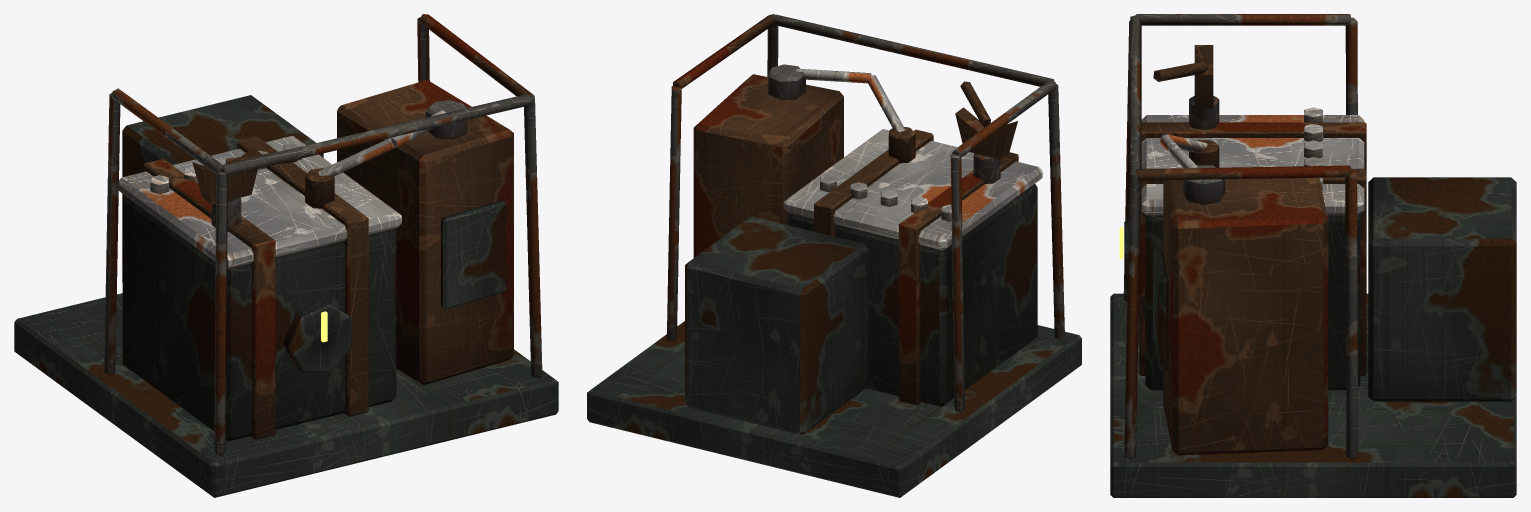
Rendered from R4X_Battery_LOD1.glb.
The picture shows the model from 3 angles, left to right: view 1: azimuth 30°, elevation 25°; view 2: azimuth 150°, elevation 25°; view 3: azimuth 270°, elevation 25°; orthographic projection. The views are drawn at different scales.
Parts seen in each view (by area): view 1: R4X_Battery_LOD1; view 2: R4X_Battery_LOD1; view 3: R4X_Battery_LOD1.
Boxes of the visible parts, bbox=[...] form: R4X_Battery_LOD1: bbox=[14, 14, 558, 497]; R4X_Battery_LOD1: bbox=[587, 14, 1081, 497]; R4X_Battery_LOD1: bbox=[1110, 14, 1516, 497].
Bounding box in the file's own units: 0.52 × 0.4576 × 0.52.
5 materials, 4 textured.
